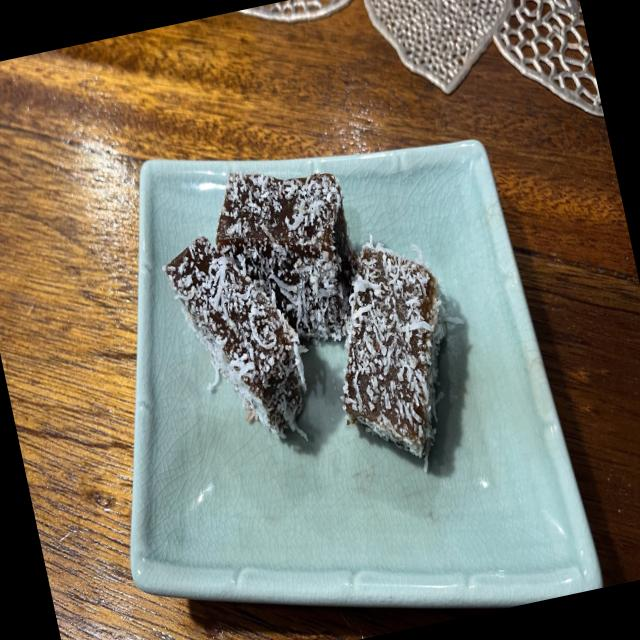kaswi: (165, 236, 306, 437), (216, 172, 357, 344), (342, 237, 446, 470)
